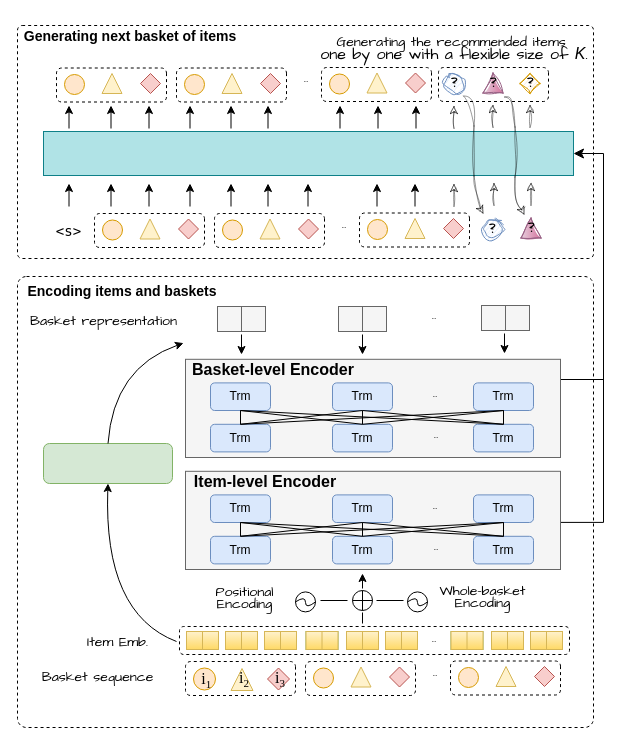
Some shapes in this 631 by 745 pixel diagram are drawn without their labels. Here are the shapes that lost their labels. From the top down, the centre of each, then its label:
At point (308, 153): "Autoregressive Intention Decoder".
At point (107, 463): "Aggregating items as a basket".
